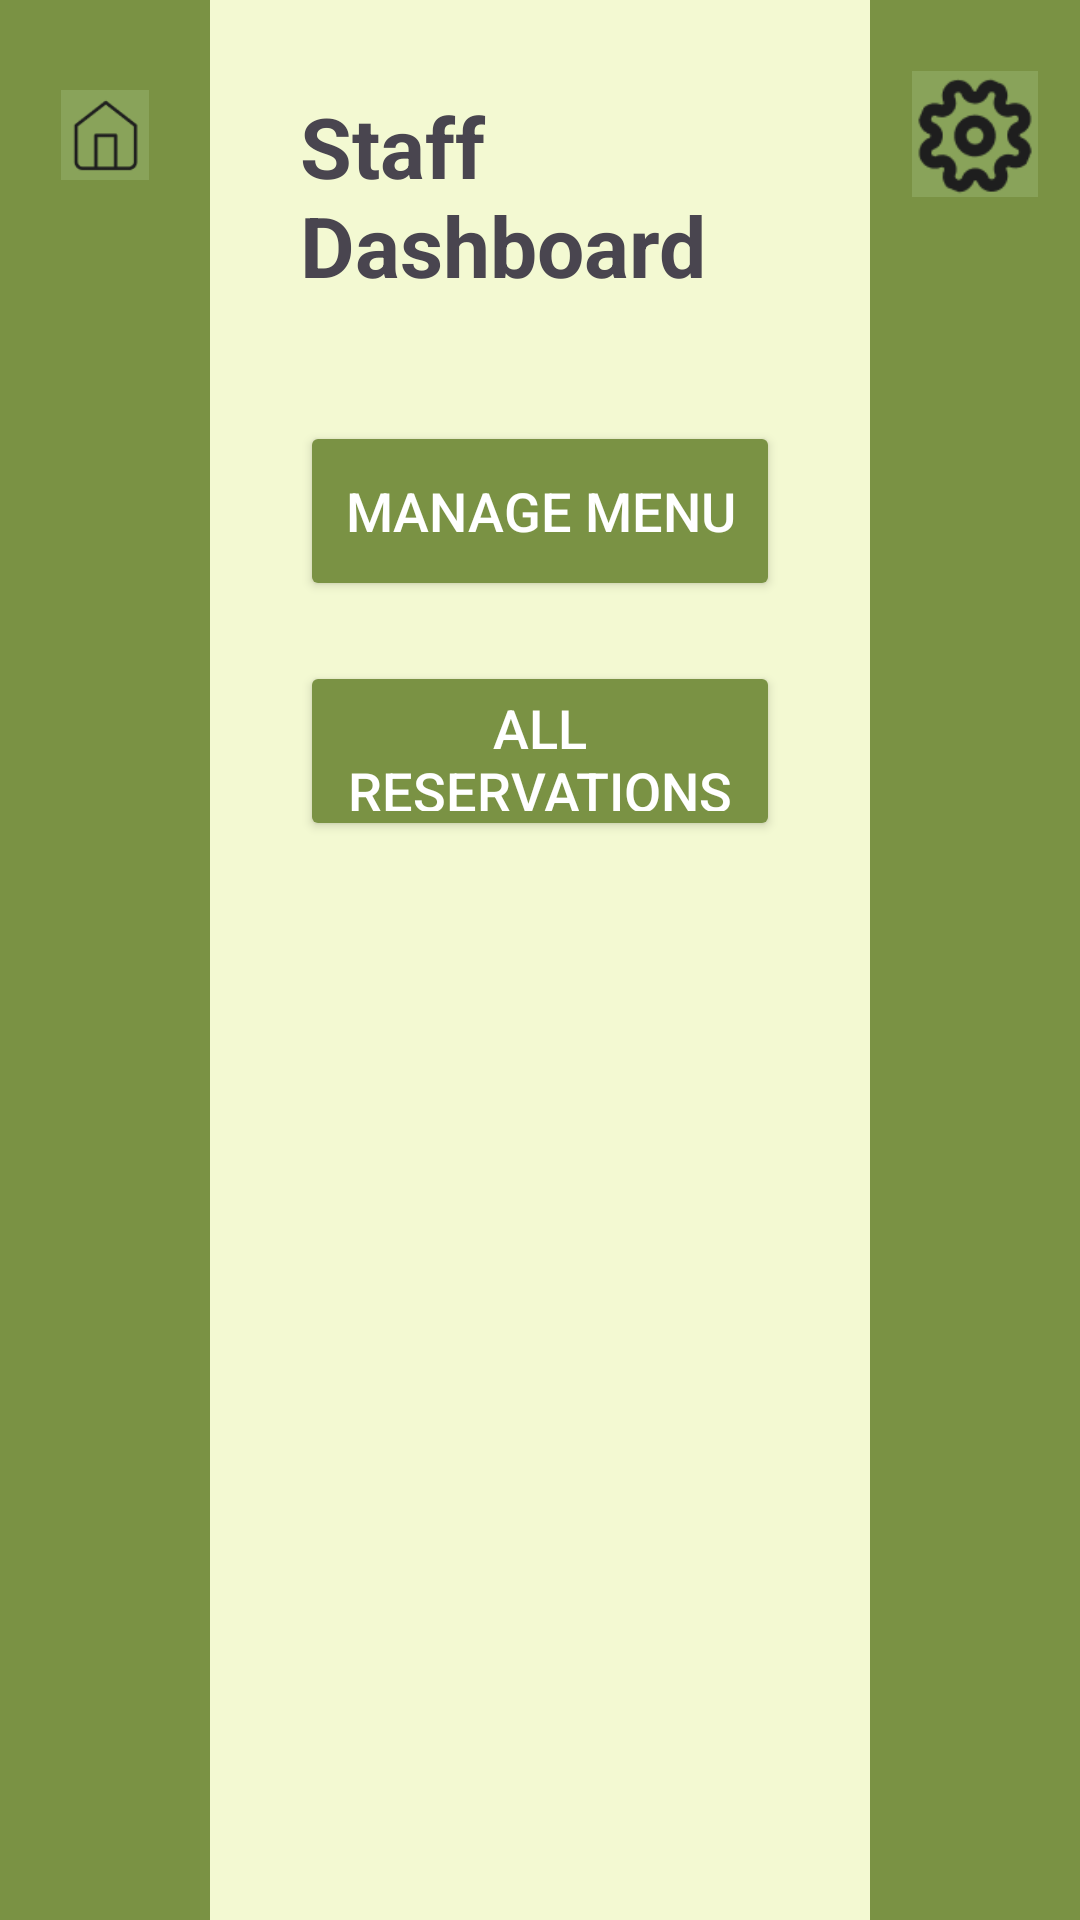

Locate icon controls on the screen. Image size 1080 x 1920, boxes as (x1, y1, x2, y2).
home: (61, 90, 149, 180)
settings: (918, 80, 1032, 192)
